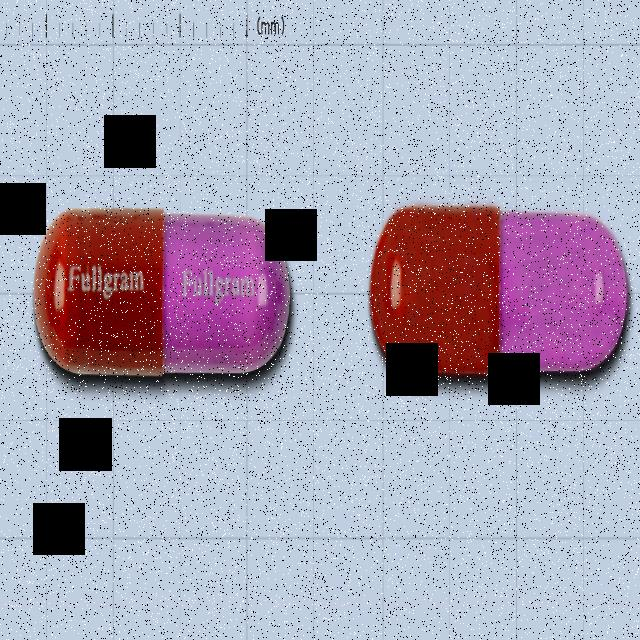Fullgram Cap: (32, 206, 292, 378)
